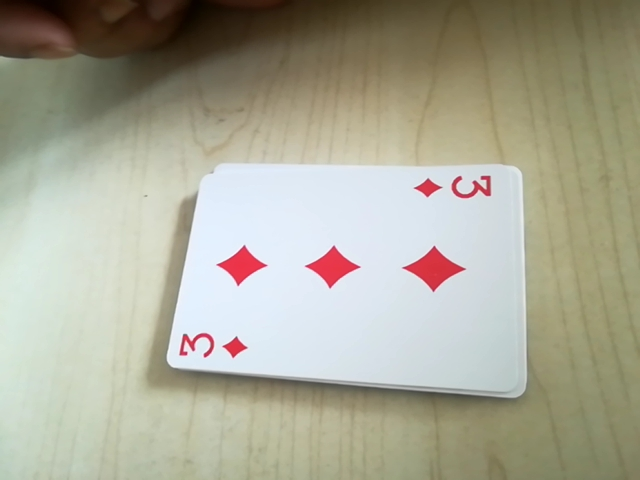fk 3: (407, 166, 501, 209), (171, 321, 256, 365)
